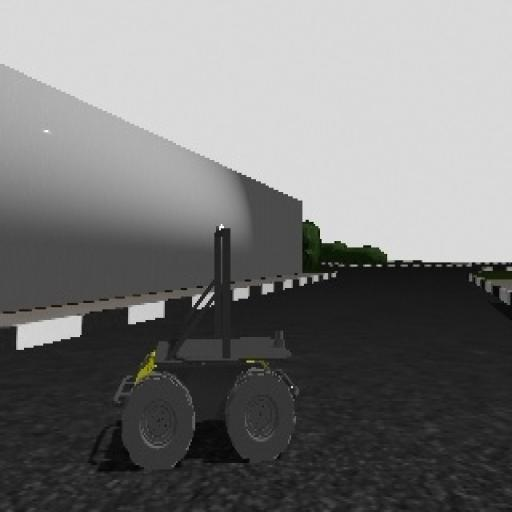huskya200: (89, 207, 310, 469)
